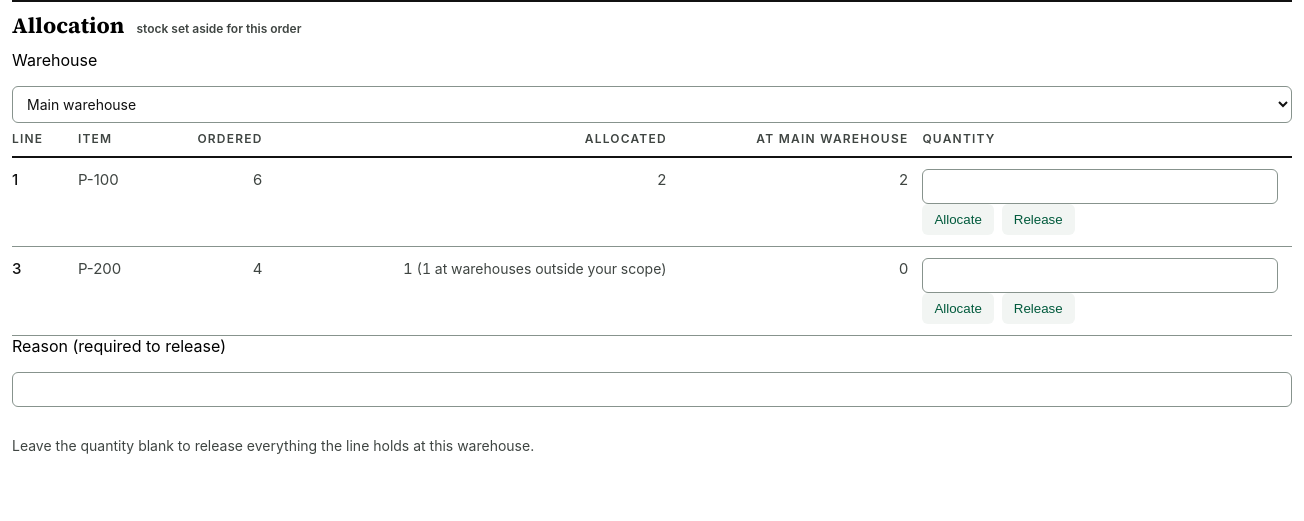
SalesOrderAllocation › a failure the platform did not govern says nothing specific
expect the table named "Allocation by line" is shown: met, box [12,123,1292,336]
Type "1" into the number field named "Quantity for line 1".
click(1100, 187); type("1")  # box [922,169,1278,204]
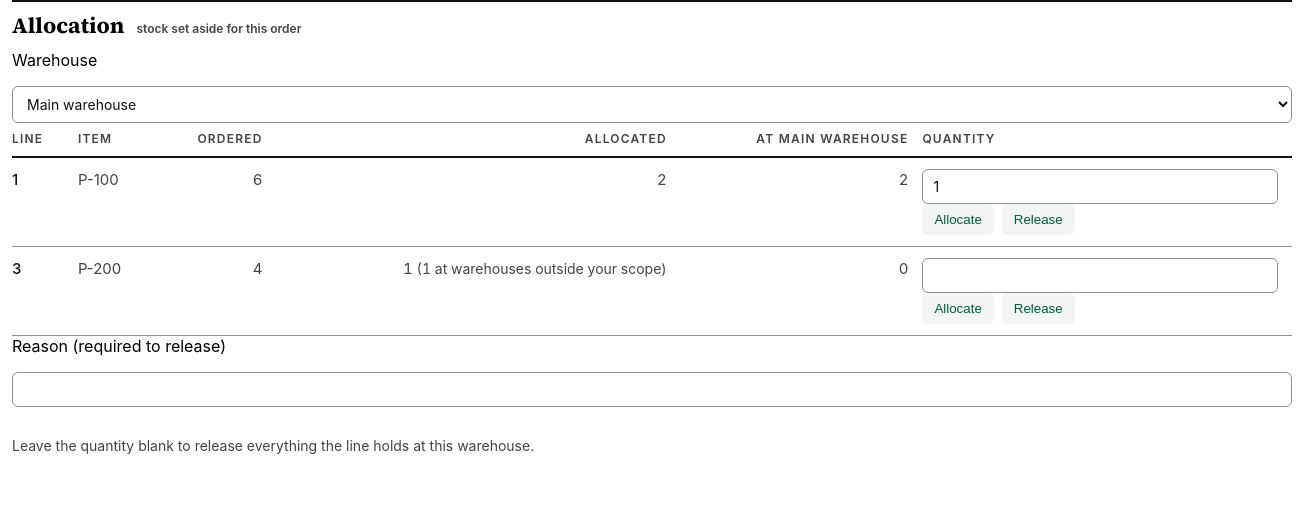
Click the button with aria-label "Allocate line 1".
click(958, 220)  # box [922,204,994,235]
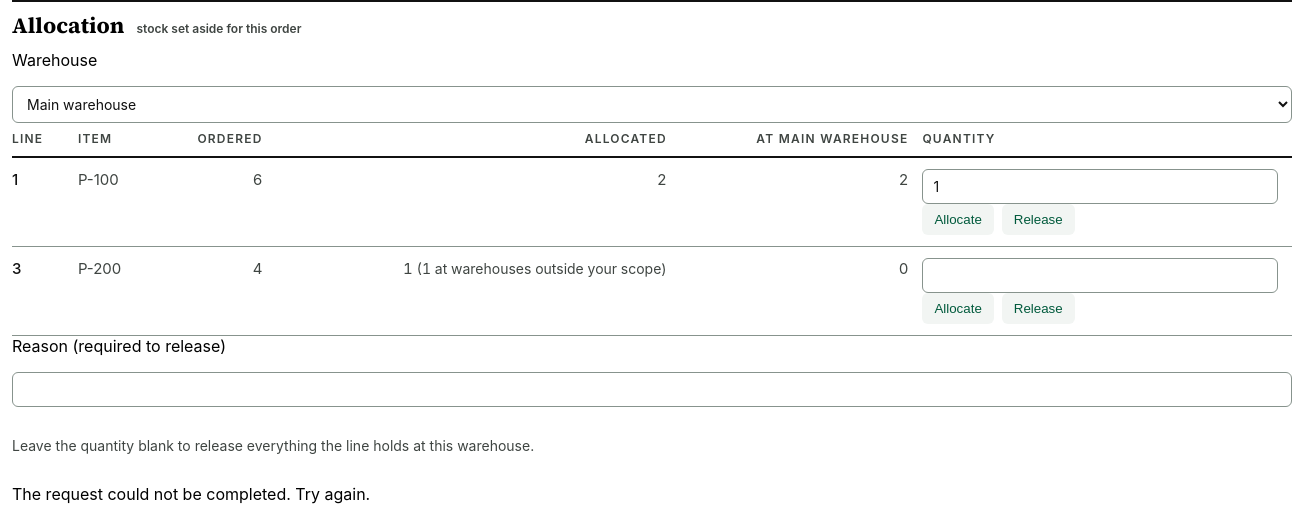
expect the message reads "The request could not be completed. Try again.": met, box [12,484,370,504]
